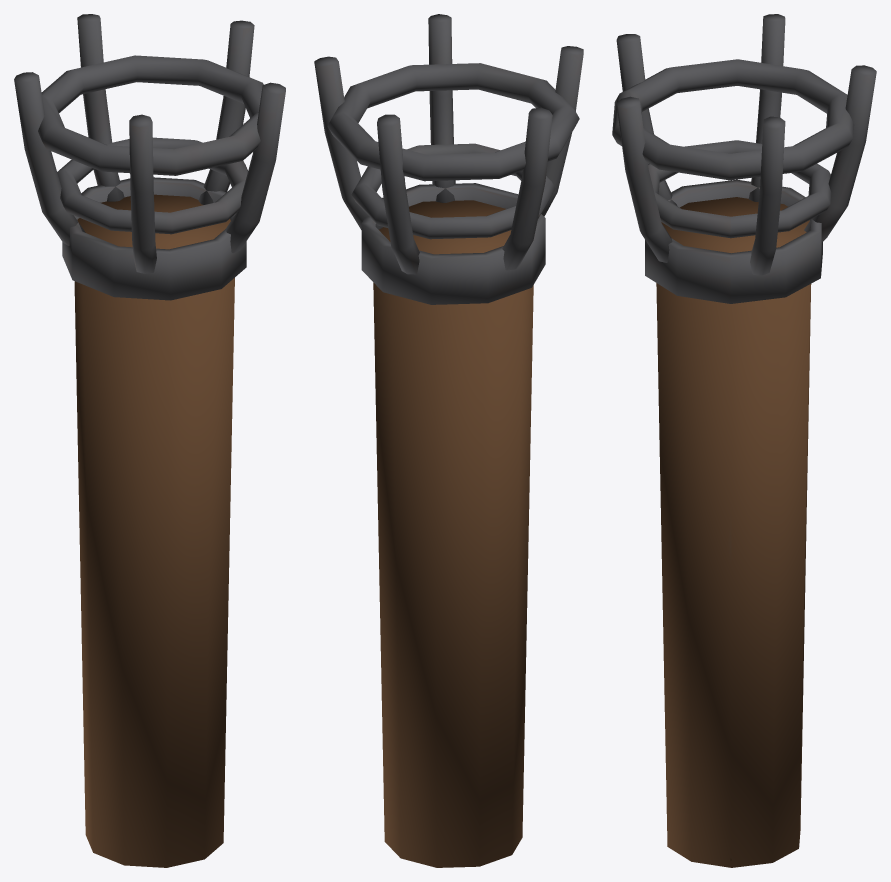
The model's file is Torch.fbx.
3 renders of one model, left to right at view 1: azimuth 30°, elevation 25°; view 2: azimuth 150°, elevation 25°; view 3: azimuth 270°, elevation 25°, orthographic.
Visible parts, largest first — view 1: Circle.001; view 2: Circle.001; view 3: Circle.001.
Part boxes in pixels (bbox=[...]): Circle.001: bbox=[14, 14, 285, 867]; Circle.001: bbox=[314, 14, 583, 867]; Circle.001: bbox=[612, 14, 876, 867].
Size of the model in its own units: 3.24 by 10.41 by 3.33.
1 material, 1 textured.
